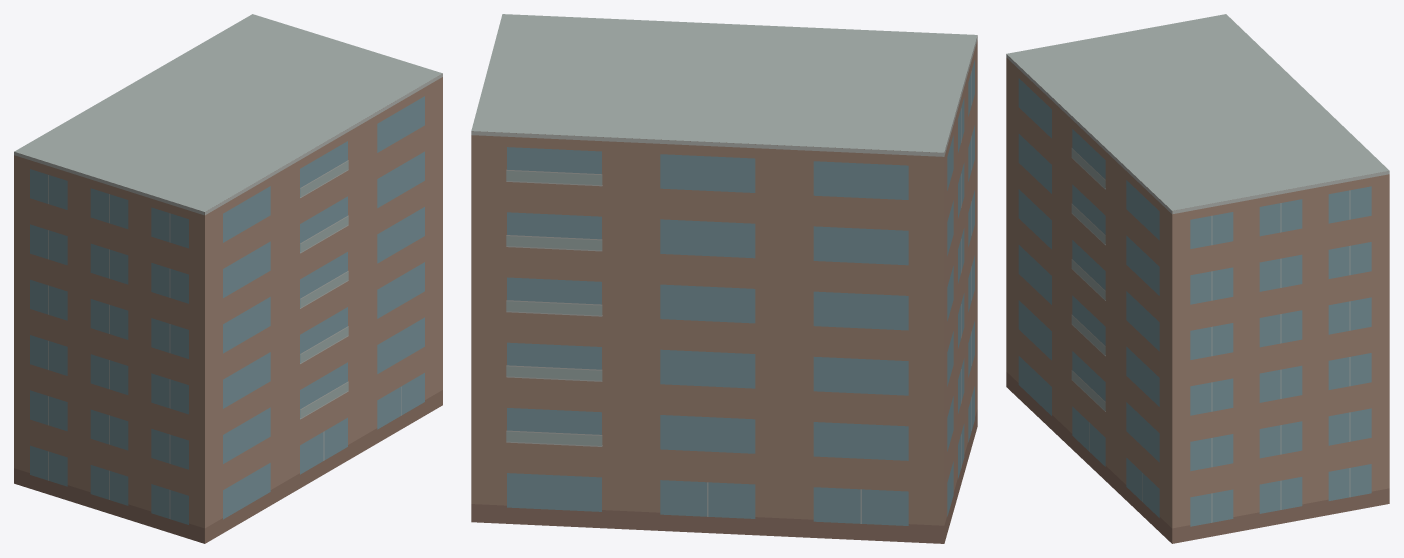
File: survey-upis-32848392.glb
The picture shows the model from 3 angles, left to right: view 1: azimuth 30°, elevation 25°; view 2: azimuth 150°, elevation 25°; view 3: azimuth 270°, elevation 25°; orthographic projection. The views are drawn at different scales.
Visible parts, largest first — view 1: survey-upis-32848392.tmp; view 2: survey-upis-32848392.tmp; view 3: survey-upis-32848392.tmp.
Boxes of the visible parts, box(x1,y1,x2,y2) form: survey-upis-32848392.tmp: box(14, 14, 442, 543); survey-upis-32848392.tmp: box(471, 14, 977, 543); survey-upis-32848392.tmp: box(1006, 14, 1389, 543).
Size of the model in its own units: 29.47 by 23.25 by 24.26.
